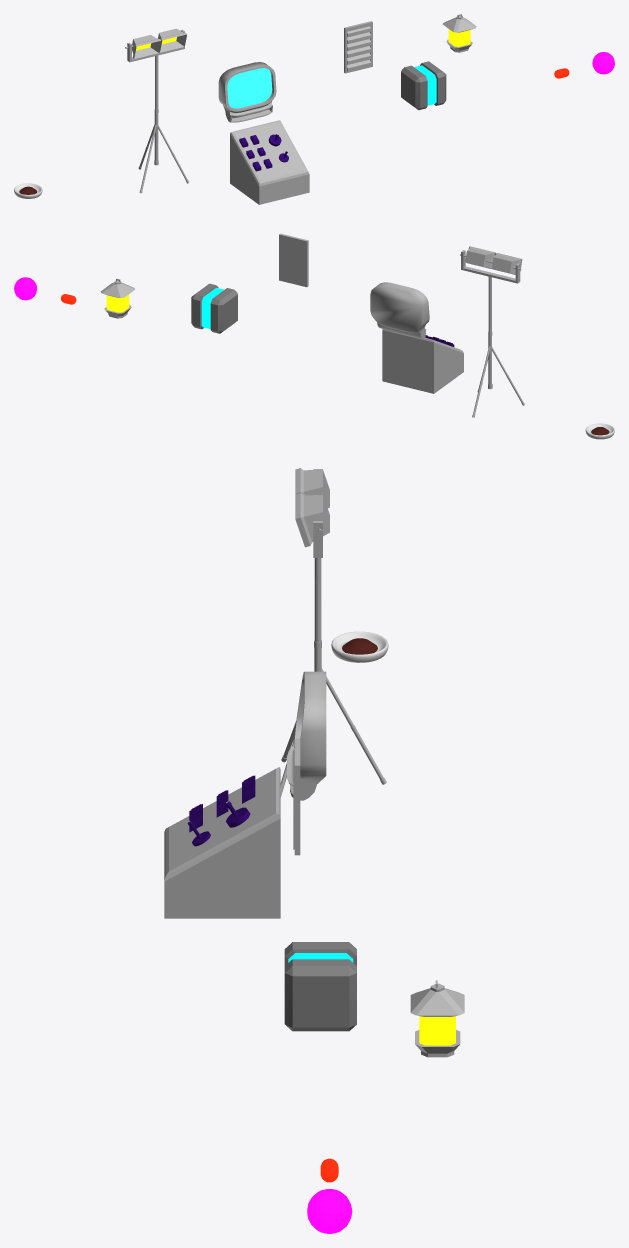
File: props.fbx
3 views of the same model, one above another, from view 1: azimuth 30°, elevation 25°; view 2: azimuth 150°, elevation 25°; view 3: azimuth 270°, elevation 25° (orthographic). The views are drawn at different scales.
Visible parts, largest first — view 1: terminal, terminal.001, Soffit, box, reshetka, light, weapon_koshei, kimchi; view 2: terminal, terminal.001, Soffit, box, reshetka, light, weapon_koshei, kimchi; view 3: terminal, box, Soffit, terminal.001, light, weapon_koshei, kimchi.
Part boxes in pixels (x1,y1,x2,y2): terminal: [230, 120, 309, 204]; terminal.001: [218, 62, 276, 122]; Soffit: [125, 28, 189, 193]; box: [401, 61, 446, 110]; reshetka: [344, 21, 372, 73]; light: [442, 14, 476, 52]; weapon_koshei: [592, 52, 614, 74]; kimchi: [14, 183, 42, 198]; terminal: [382, 329, 463, 393]; terminal.001: [370, 282, 429, 338]; Soffit: [460, 246, 524, 417]; box: [191, 283, 237, 333]; reshetka: [279, 233, 308, 287]; light: [100, 278, 135, 318]; weapon_koshei: [14, 277, 37, 300]; kimchi: [585, 423, 614, 439]; terminal: [164, 767, 280, 918]; box: [284, 942, 356, 1031]; Soffit: [280, 468, 386, 797]; terminal.001: [287, 671, 326, 800]; light: [410, 980, 464, 1057]; weapon_koshei: [307, 1189, 352, 1233]; kimchi: [331, 631, 388, 662].
Size of the model in its own units: 507 by 2297 by 587.
